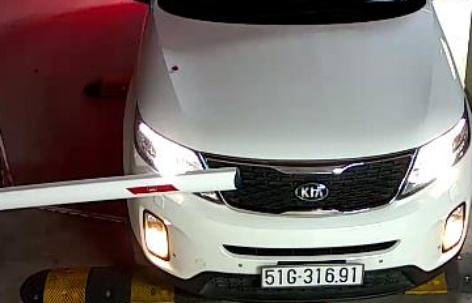plate: (255, 258, 368, 291)
